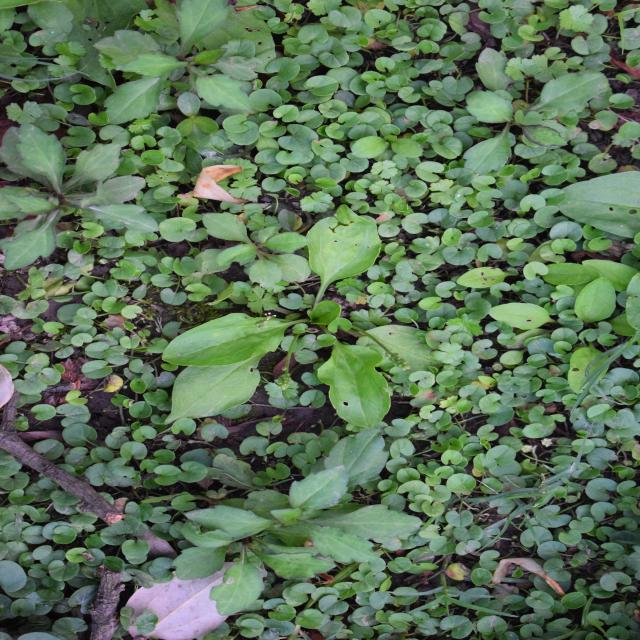plantain: (208, 194, 438, 492)
